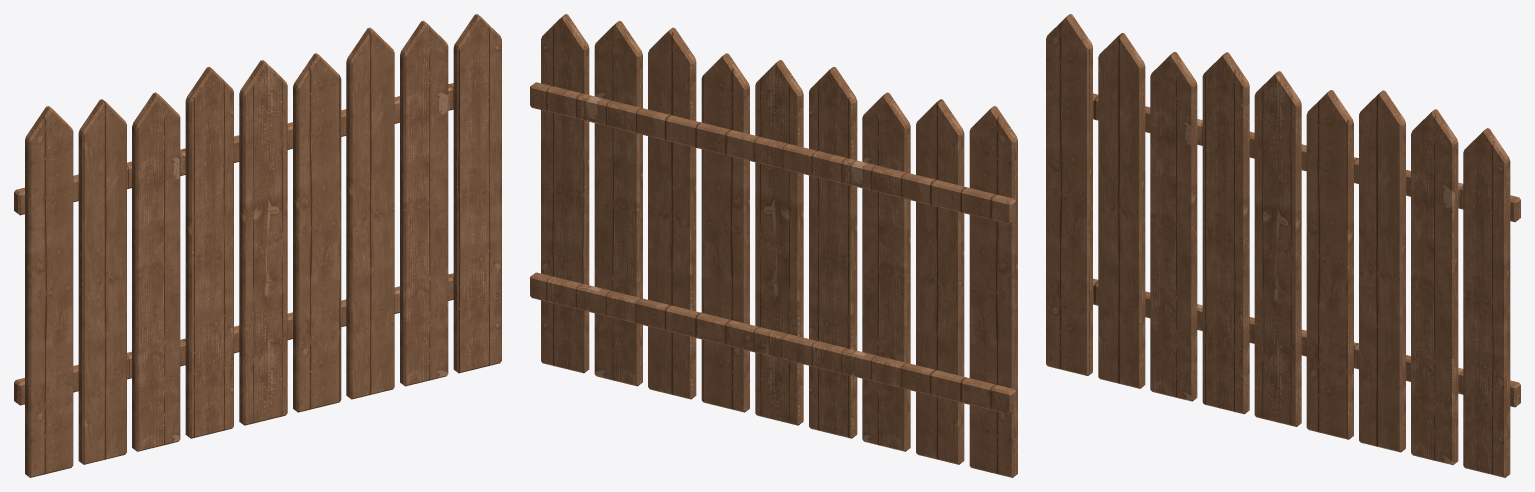
Rendered from plank.glb.
3 views of the same model, side by side, from view 1: azimuth 30°, elevation 25°; view 2: azimuth 150°, elevation 25°; view 3: azimuth 330°, elevation 25° (orthographic). The views are drawn at different scales.
Visible parts, largest first — view 1: Plank; view 2: Plank; view 3: Plank.
Boxes of the visible parts, x1=… form: Plank: x1=14, y1=14, x2=501, y2=477; Plank: x1=530, y1=14, x2=1017, y2=477; Plank: x1=1046, y1=14, x2=1520, y2=477.
Bounding box in the file's own units: 2 × 1.44 × 0.0875.
Materials: 1 (1 with a texture image).
